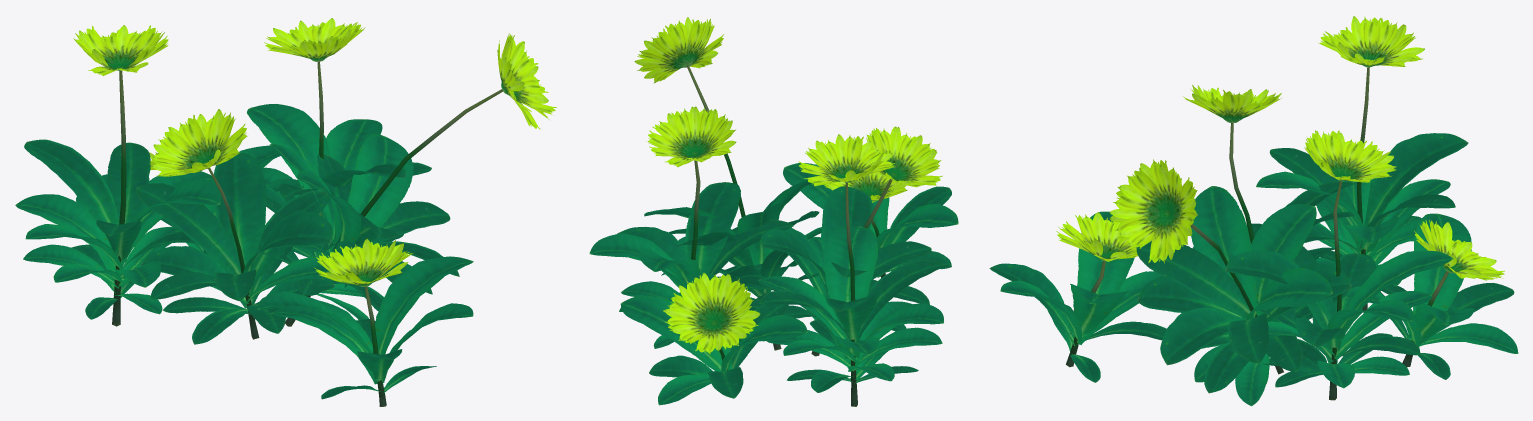
3 renders of one model, left to right at view 1: azimuth 30°, elevation 25°; view 2: azimuth 150°, elevation 25°; view 3: azimuth 270°, elevation 25°, orthographic. The views are drawn at different scales.
Parts seen in each view (by area): view 1: SM_Gazania_02_LOD0; view 2: SM_Gazania_02_LOD0; view 3: SM_Gazania_02_LOD0.
Boxes of the visible parts, <box> form: SM_Gazania_02_LOD0: <box>15,18,556,406</box>; SM_Gazania_02_LOD0: <box>589,17,958,406</box>; SM_Gazania_02_LOD0: <box>989,16,1518,406</box>.
Bounding box in the file's own units: 0.5205 × 0.3373 × 0.5607.
1 material, 1 textured.
